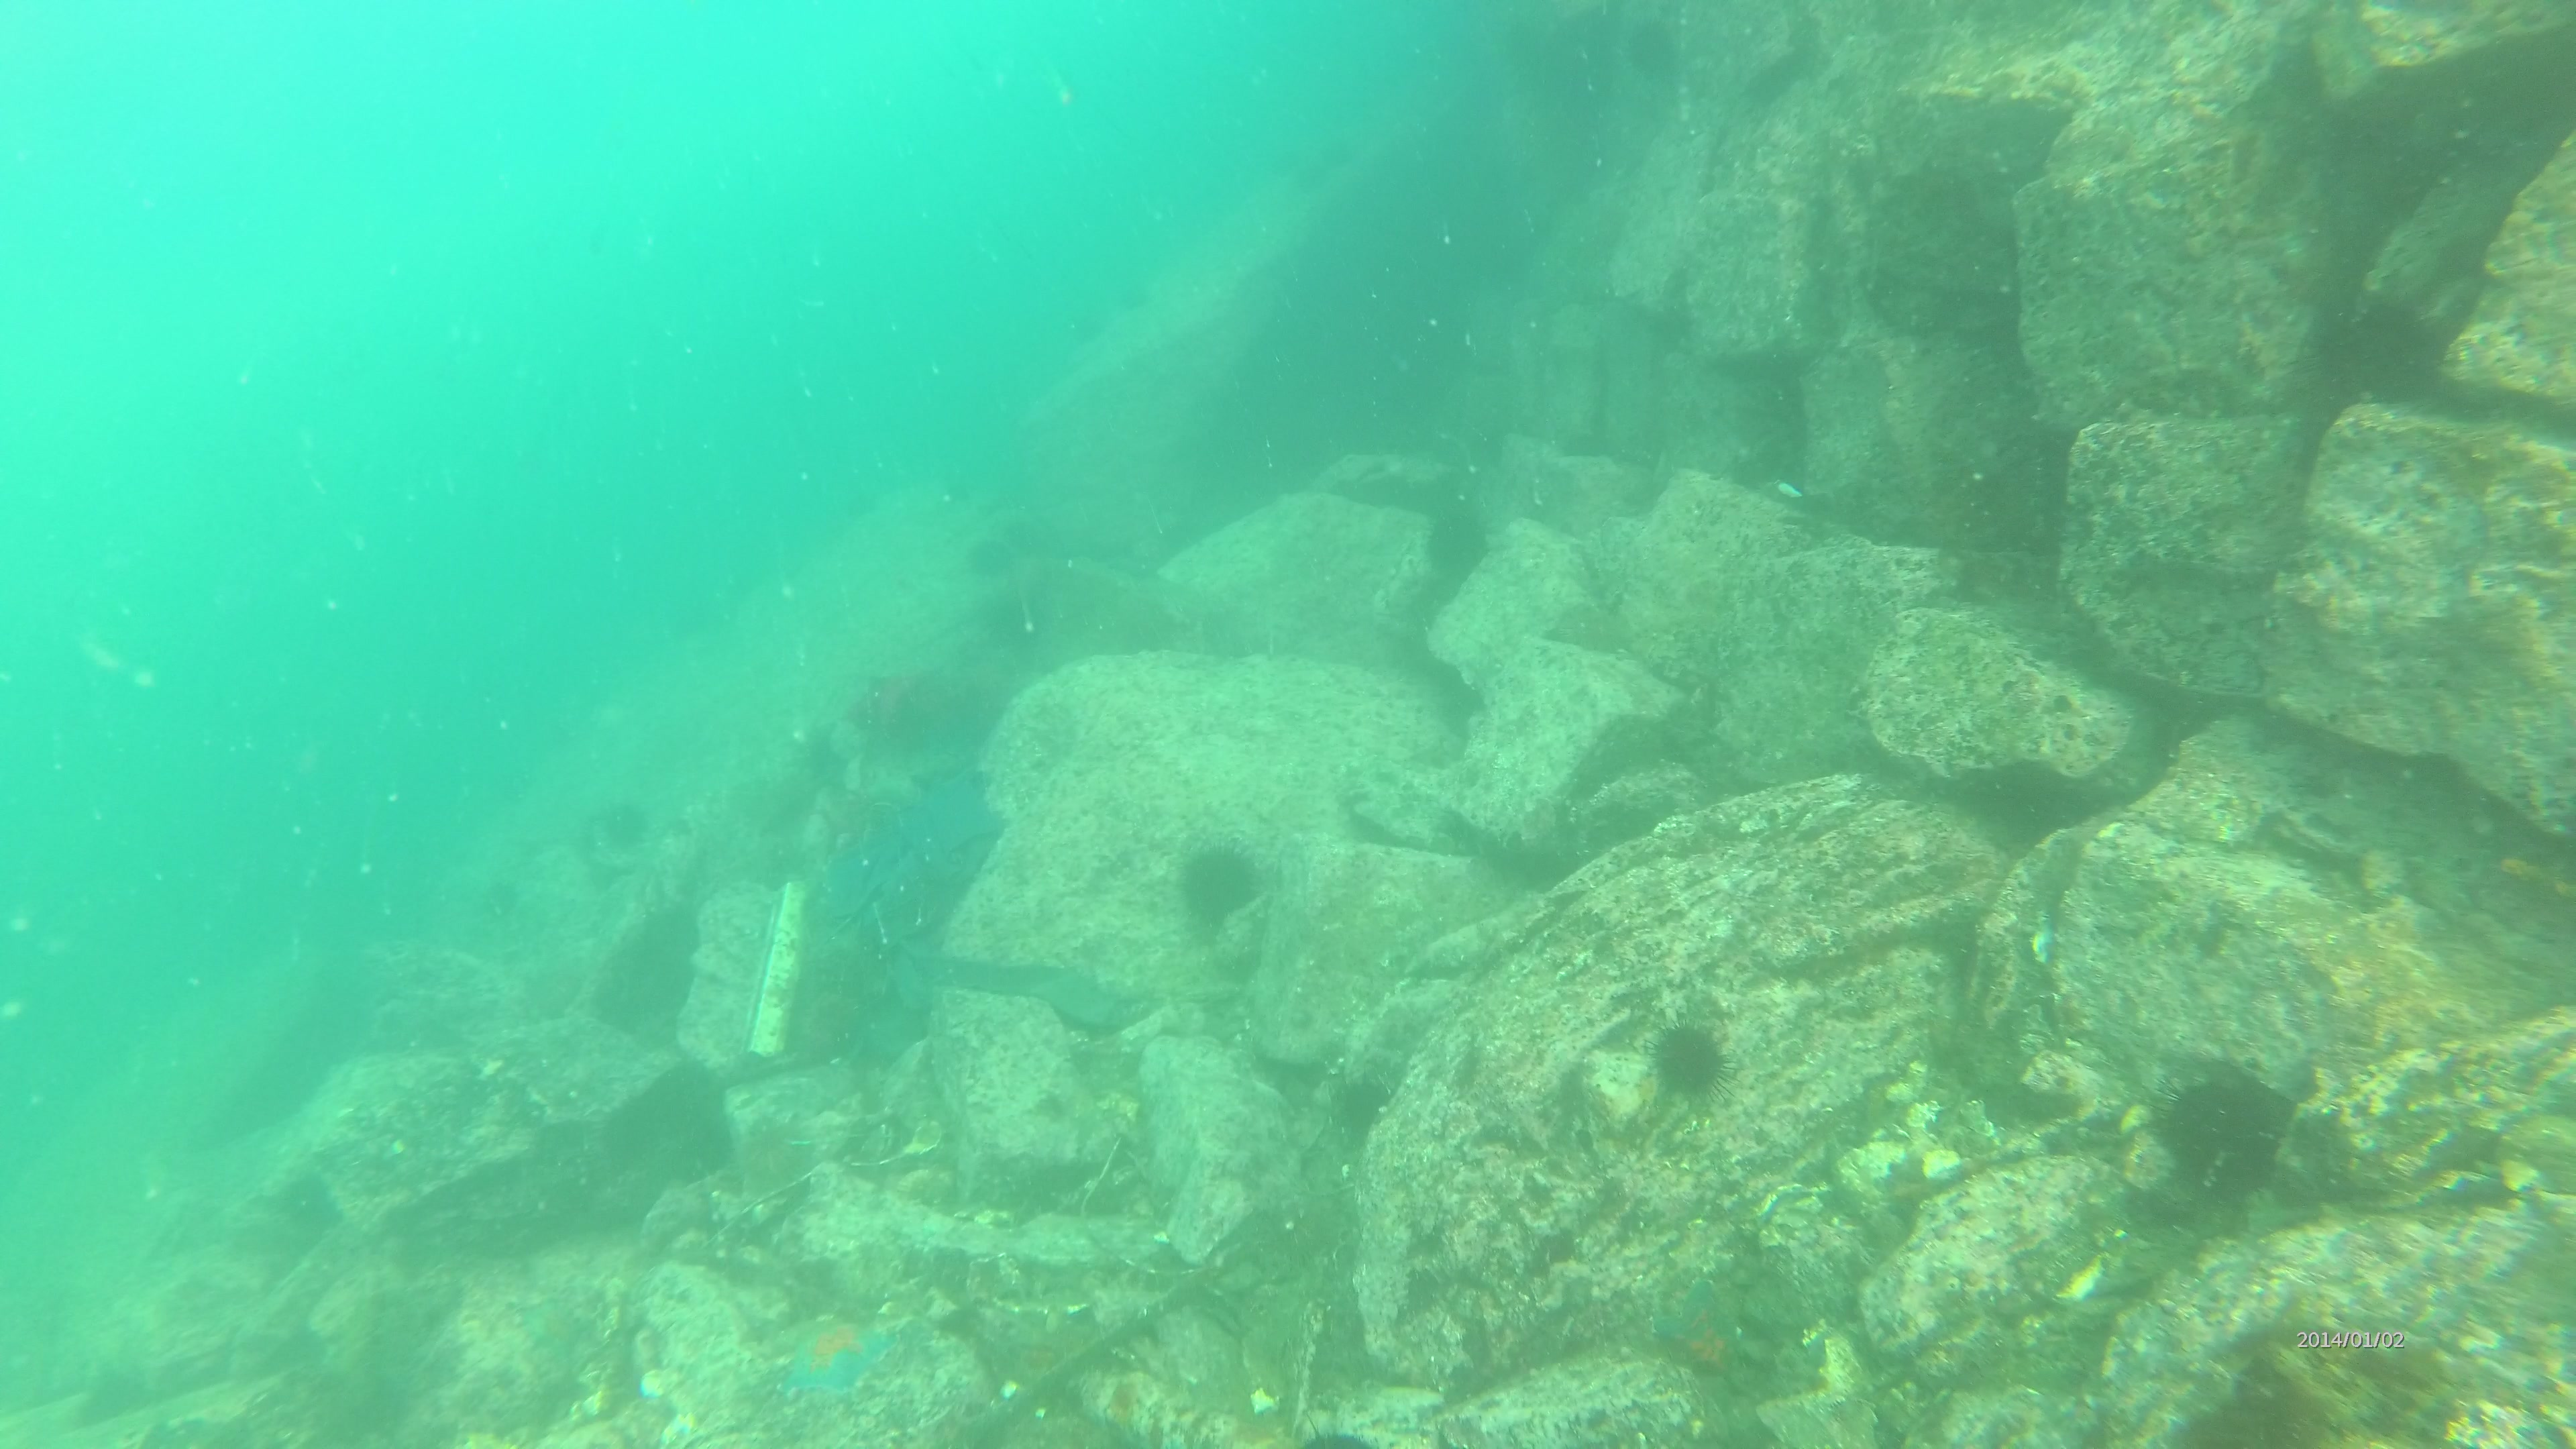echinus: (2153, 1065, 2265, 1182), (1644, 1016, 1729, 1097), (1178, 839, 1265, 918)
starfish: (1656, 1274, 1746, 1382), (784, 1315, 890, 1399)
